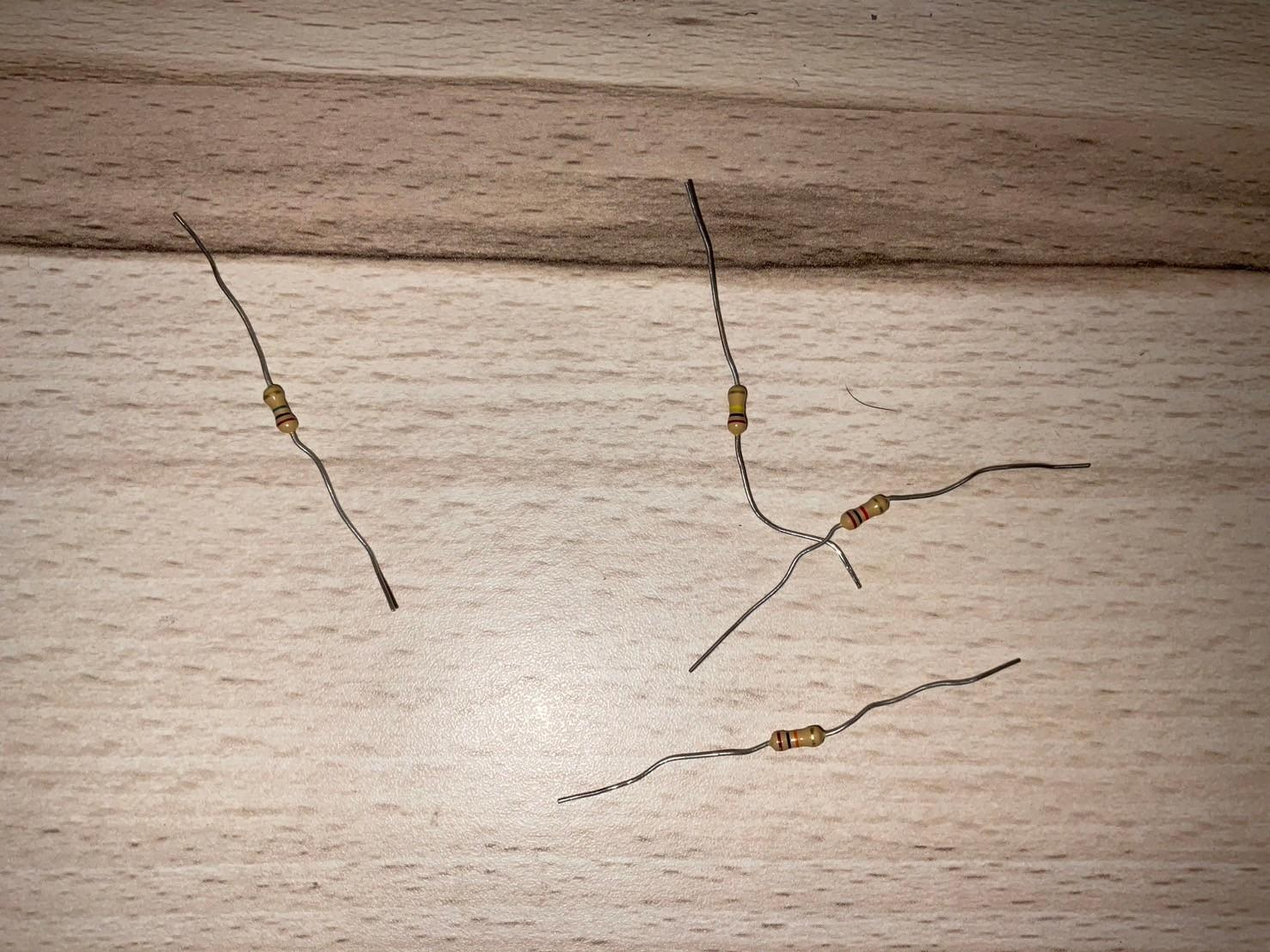resistor: (841, 491, 891, 530), (262, 383, 298, 434), (770, 723, 825, 753), (726, 383, 750, 437)
